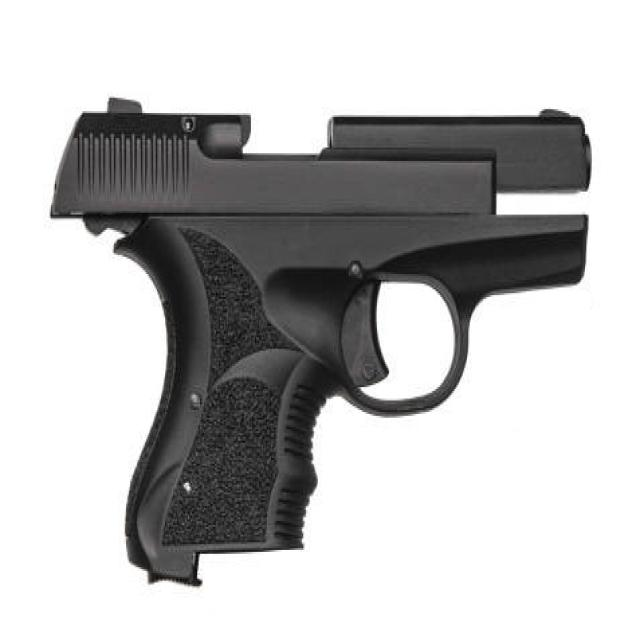pistol: (40, 89, 597, 596)
